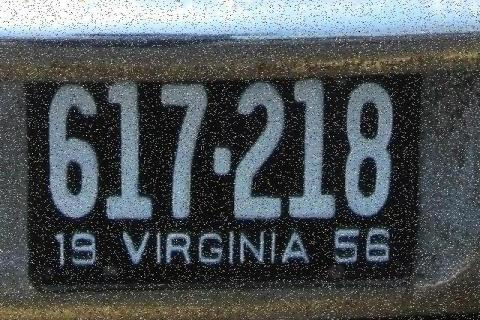LicensePlate: (7, 66, 435, 292)
